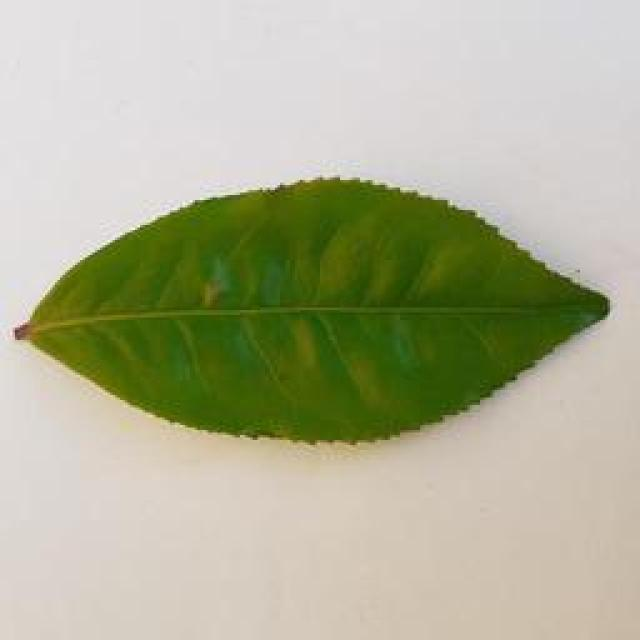Healthy: (14, 174, 621, 446)
